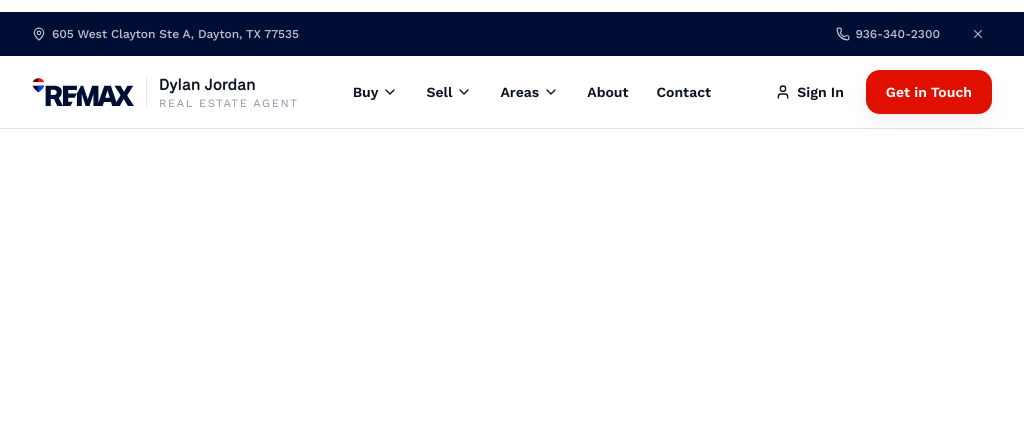
Test: header menus › closes on Escape
This screenshot has width=1024, height=442.
Click the button "Buy".
click(376, 92)  # box [353,70,398,114]
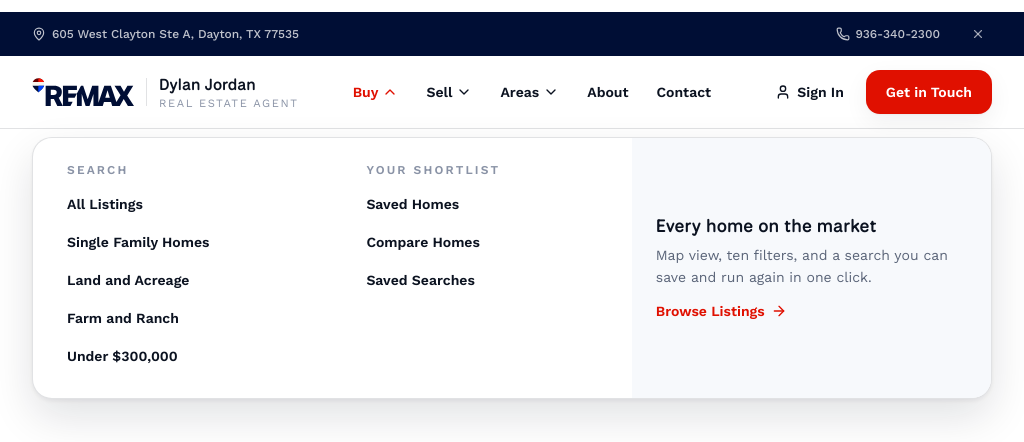
Press Escape
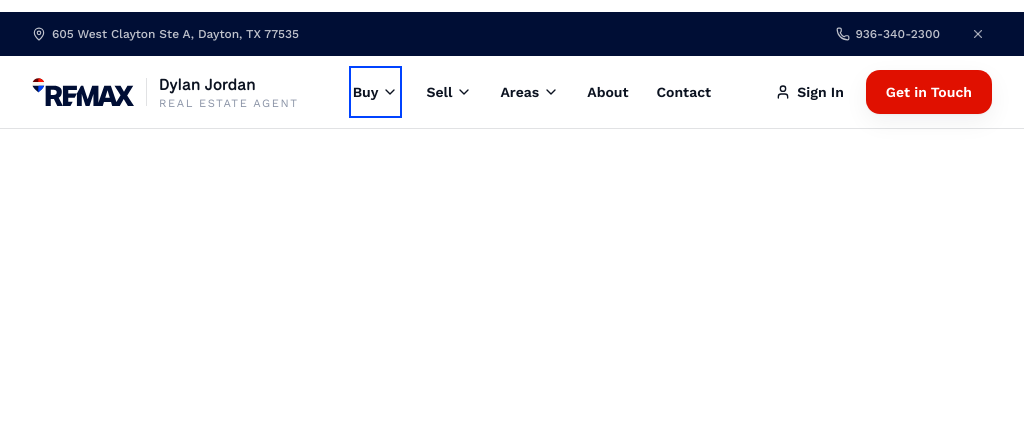
Now the button "Buy" is collapsed, box [353,70,398,114]
